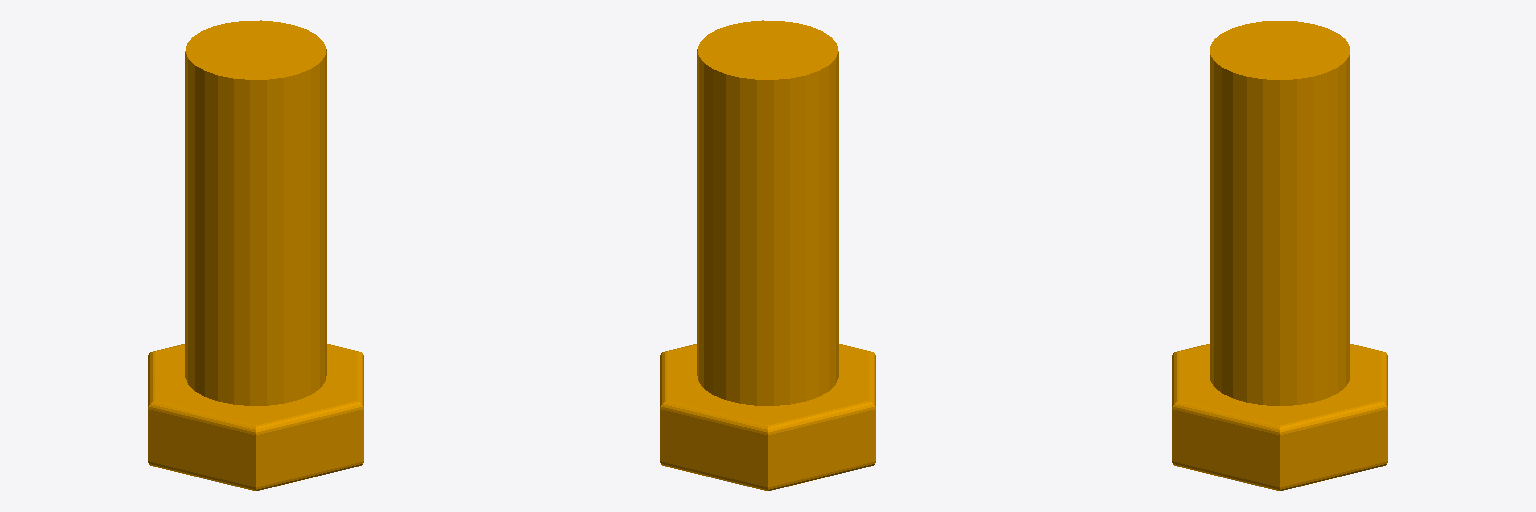
The robot description file, URDF, robot "00581_socket":
<?xml version="1.0"?>
<robot name="00581_socket">
	<link name="00581_socket">
	
		<visual>
			<geometry>
				<mesh filename="asset_socket.obj" scale="10 10 10"/>
			</geometry>
		</visual>
		<collision>
			<geometry>
				<mesh filename="asset_socket.obj"/>
			</geometry>
			<sdf resolution="256"/>
		</collision>
	</link>
</robot>

--- What the picture shows (computed from the rendered views, not written in the file) ---
3 views of the same robot in one strip: view 1: azimuth 30°, elevation 25°; view 2: azimuth 150°, elevation 25°; view 3: azimuth 270°, elevation 25° (orthographic).
Model 00581_socket with 1 links and 0 joints (none), rooted at 00581_socket, posed all joints at 0.
Links seen in each view (by area): view 1: 00581_socket; view 2: 00581_socket; view 3: 00581_socket.
Boxes of the visible links, x1,y1,x2,y2 form: 00581_socket: (148,20,363,490); 00581_socket: (660,20,875,490); 00581_socket: (1172,21,1387,490).
Bounding box of the posed robot: 0.7282 × 0.6306 × 1.26 m (x, y, z).
1 mesh visuals loaded from 1 distinct referenced files (1 OBJ).
